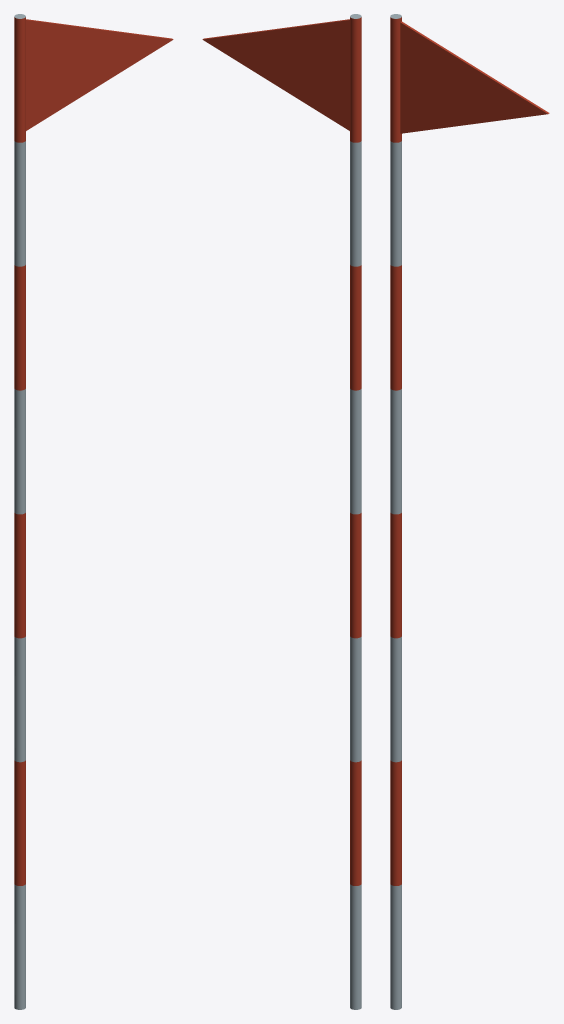
The model's file is flag2.obj.
3 views of the same model, side by side, from view 1: azimuth 30°, elevation 25°; view 2: azimuth 150°, elevation 25°; view 3: azimuth 330°, elevation 25° (orthographic).
Parts seen in each view (by area): view 1: polySurface2; view 2: polySurface2; view 3: polySurface2.
Part boxes in pixels (<box>): polySurface2: <box>14,14,173,1009</box>; polySurface2: <box>202,14,361,1009</box>; polySurface2: <box>390,14,549,1009</box>.
Bounding box in the file's own units: 1.07 × 6.39 × 0.0688.
